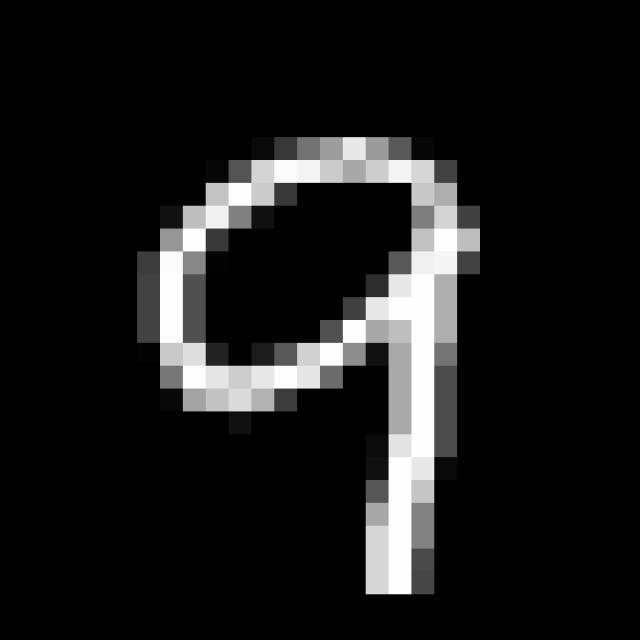nine -9-: (144, 130, 463, 610)
